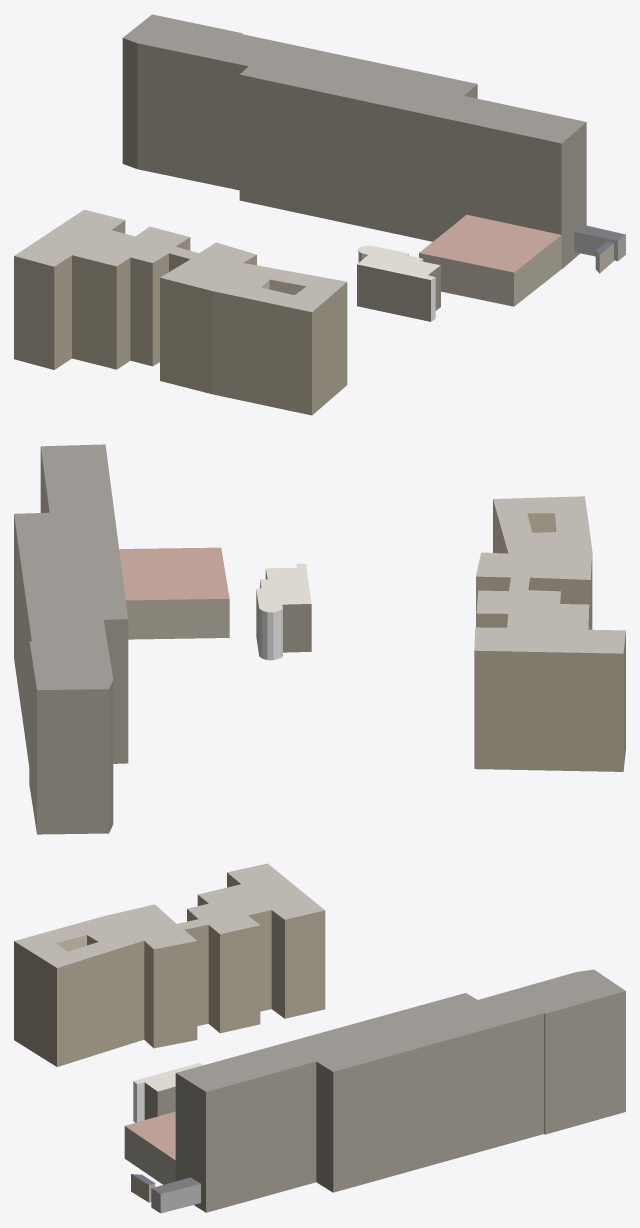
The picture shows the model from 3 angles, top to bottom: view 1: azimuth 30°, elevation 25°; view 2: azimuth 150°, elevation 25°; view 3: azimuth 270°, elevation 25°; orthographic projection. The views are drawn at different scales.
Visible parts, largest first — view 1: tuile; view 2: tuile; view 3: tuile.
Boxes of the visible parts, x1,y1,x2,y2 form: tuile: (14, 14, 625, 415); tuile: (14, 444, 625, 834); tuile: (14, 863, 625, 1213).
Bounding box in the file's own units: 154 × 34.13 × 153.
